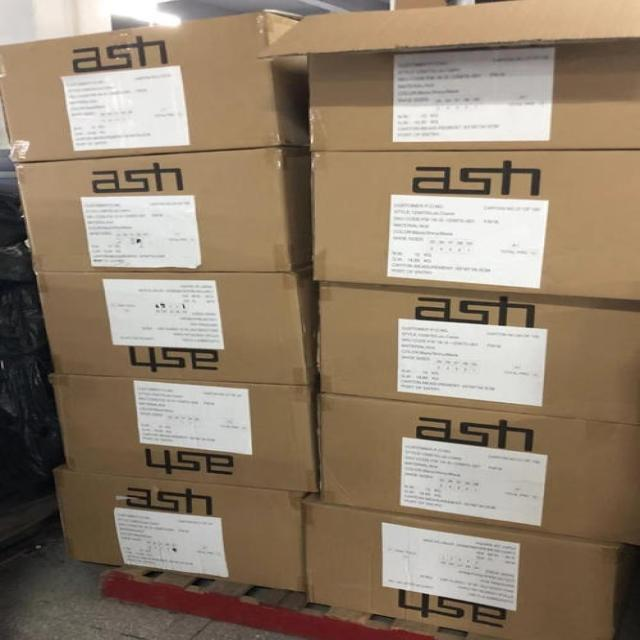box: (257, 0, 640, 151), (302, 491, 640, 640), (315, 393, 640, 546), (311, 151, 640, 301), (0, 9, 310, 163), (316, 282, 640, 425), (17, 146, 312, 273), (36, 266, 320, 385), (54, 464, 311, 593), (49, 373, 321, 492)
